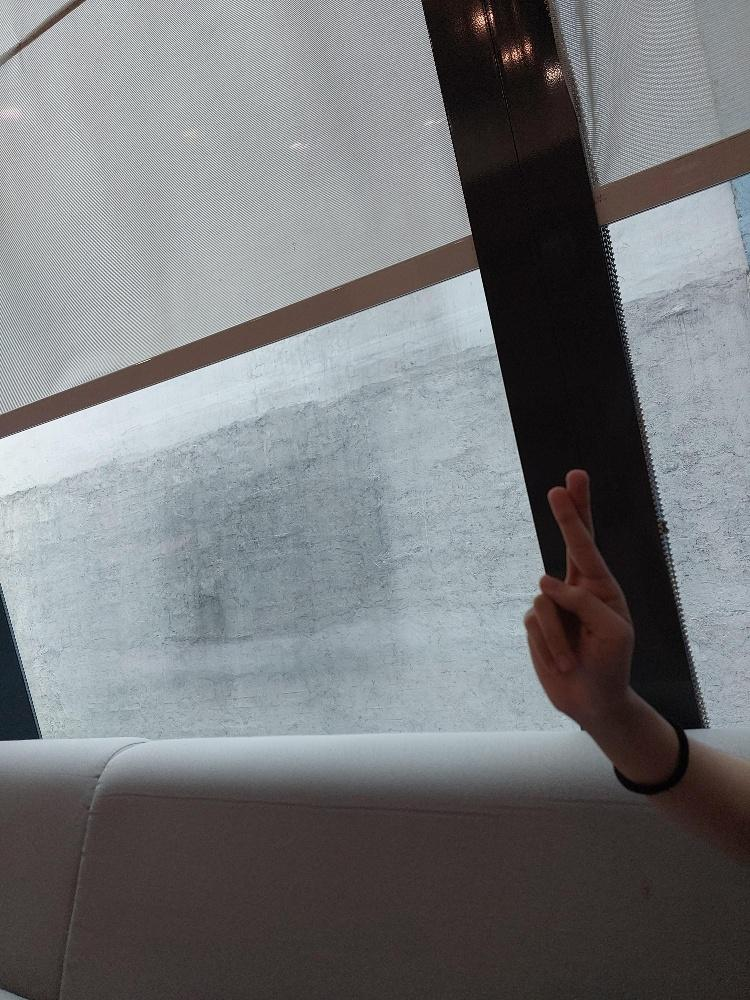r: (522, 468, 633, 714)
